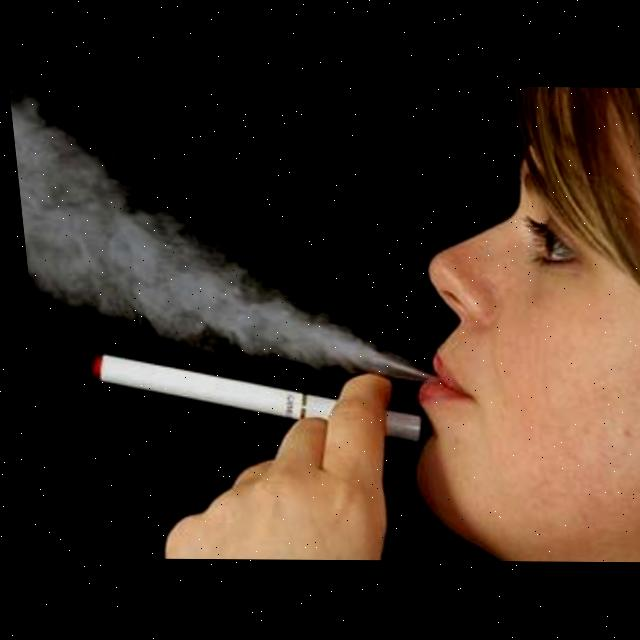cigarette: (80, 353, 414, 442)
